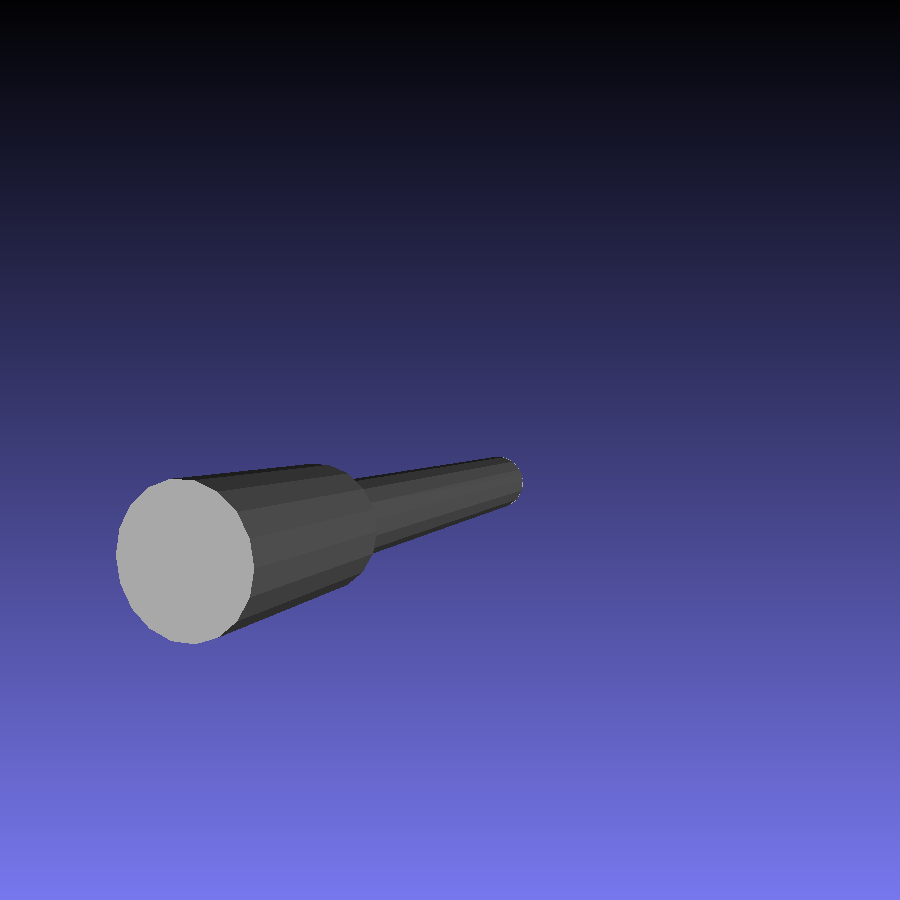cargo_g: (116, 458, 524, 645)
